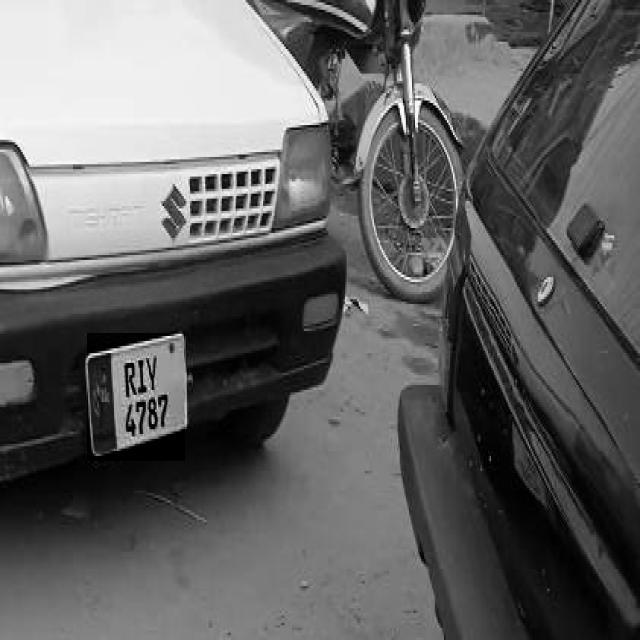number_plate: (87, 334, 185, 461)
